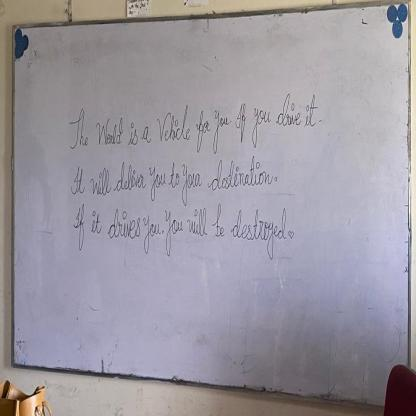Handwritten text: (65, 202, 292, 275), (71, 86, 318, 153), (66, 154, 279, 202)
Whiteboard: (10, 0, 412, 416)
